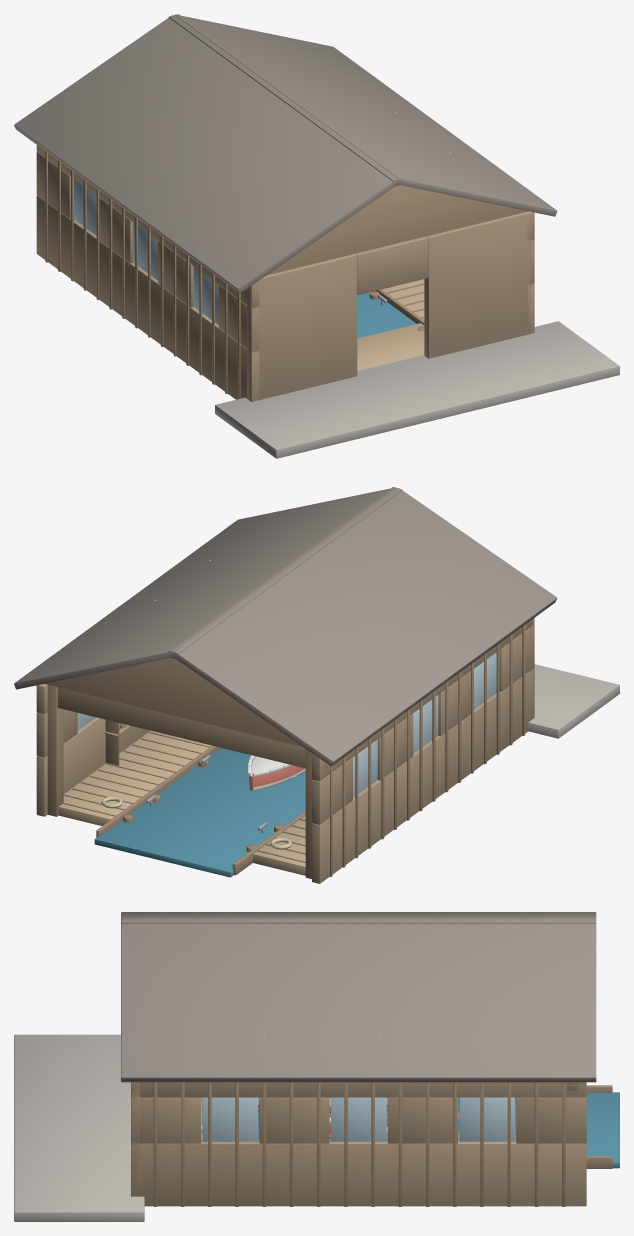
The model's file is th15_bootshaus.glb.
3 renders of one model, top to bottom at view 1: azimuth 30°, elevation 25°; view 2: azimuth 150°, elevation 25°; view 3: azimuth 270°, elevation 25°, orthographic. The views are drawn at different scales.
Parts seen in each view (by area): view 1: Cube.111, Cube, Cube.112, Cube.074, Cube.073, Cube.055, Giebel, Cube.075, Cube.003, Cube.113, Cube.056, Cube.052 (+8 smaller); view 2: Cube.111, Cube.112, Cube.052, Cube.055, Giebel.001, Cube.002, Cube.078, Cube, Cube.064, Cube.113, Cube.077, Cube.060 (+14 smaller); view 3: Cube.112, Cube.064, Cube, Cube.065, Cube.111, Cube.113, Cube.069, Cube.066, Cube.067, Cube.068, Cube.052, Cube.072 (+19 smaller).
Boxes of the visible parts, left/top/right/bottom form: Cube.111: left=14, top=15, right=397, bottom=293; Cube: left=215, top=321, right=619, bottom=458; Cube.112: left=175, top=14, right=557, bottom=216; Cube.074: left=424, top=212, right=534, bottom=358; Cube.073: left=247, top=254, right=357, bottom=401; Cube.055: left=36, top=195, right=259, bottom=401; Giebel: left=267, top=185, right=527, bottom=274; Cube.075: left=355, top=236, right=428, bottom=294; Cube.003: left=357, top=323, right=424, bottom=371; Cube.113: left=168, top=14, right=402, bottom=186; Cube.056: left=36, top=145, right=259, bottom=308; Cube.052: left=357, top=292, right=416, bottom=338; Cube.111: left=173, top=488, right=557, bottom=766; Cube.112: left=14, top=487, right=396, bottom=689; Cube.052: left=94, top=748, right=305, bottom=877; Cube.055: left=312, top=669, right=534, bottom=883; Giebel.001: left=45, top=658, right=302, bottom=746; Cube.002: left=58, top=730, right=211, bottom=825; Cube.078: left=57, top=687, right=326, bottom=771; Cube: left=528, top=664, right=619, bottom=738; Cube.064: left=36, top=717, right=150, bottom=816; Cube.113: left=168, top=487, right=402, bottom=658; Cube.077: left=47, top=685, right=63, bottom=816; Cube.060: left=312, top=758, right=352, bottom=824; Cube.112: left=121, top=920, right=596, bottom=1082; Cube.064: left=131, top=1140, right=586, bottom=1206; Cube: left=14, top=1034, right=144, bottom=1221; Cube.065: left=131, top=1082, right=586, bottom=1097; Cube.111: left=121, top=912, right=596, bottom=919; Cube.113: left=121, top=917, right=596, bottom=923; Cube.069: left=516, top=1097, right=586, bottom=1143; Cube.066: left=131, top=1097, right=201, bottom=1143; Cube.067: left=259, top=1097, right=329, bottom=1143; Cube.068: left=387, top=1097, right=457, bottom=1143; Cube.052: left=258, top=1092, right=619, bottom=1168; Cube.072: left=459, top=1097, right=514, bottom=1141.
Bounding box in the file's own units: 11.6 × 6.49 × 16.7.
